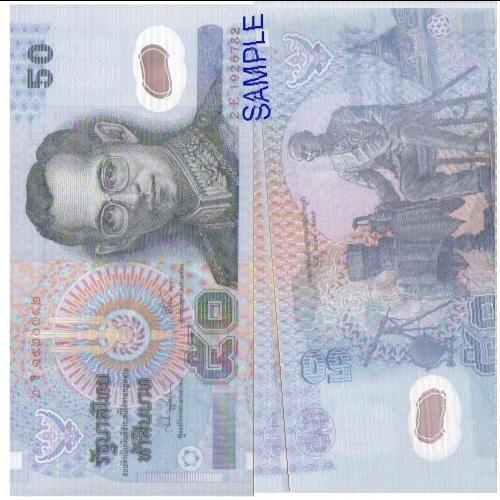50BahtTai: (247, 9, 495, 493)
